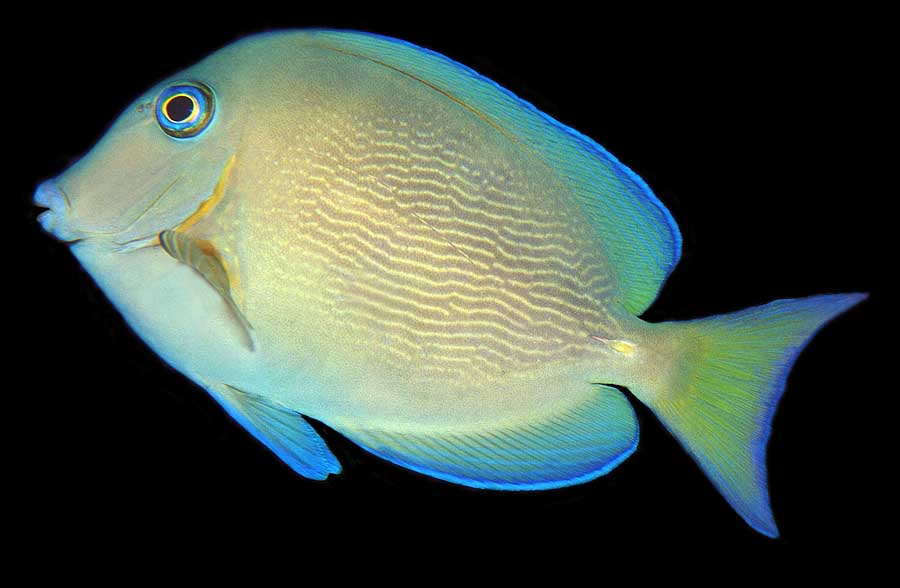Acanthurus_coeruleus: (29, 24, 871, 545)
